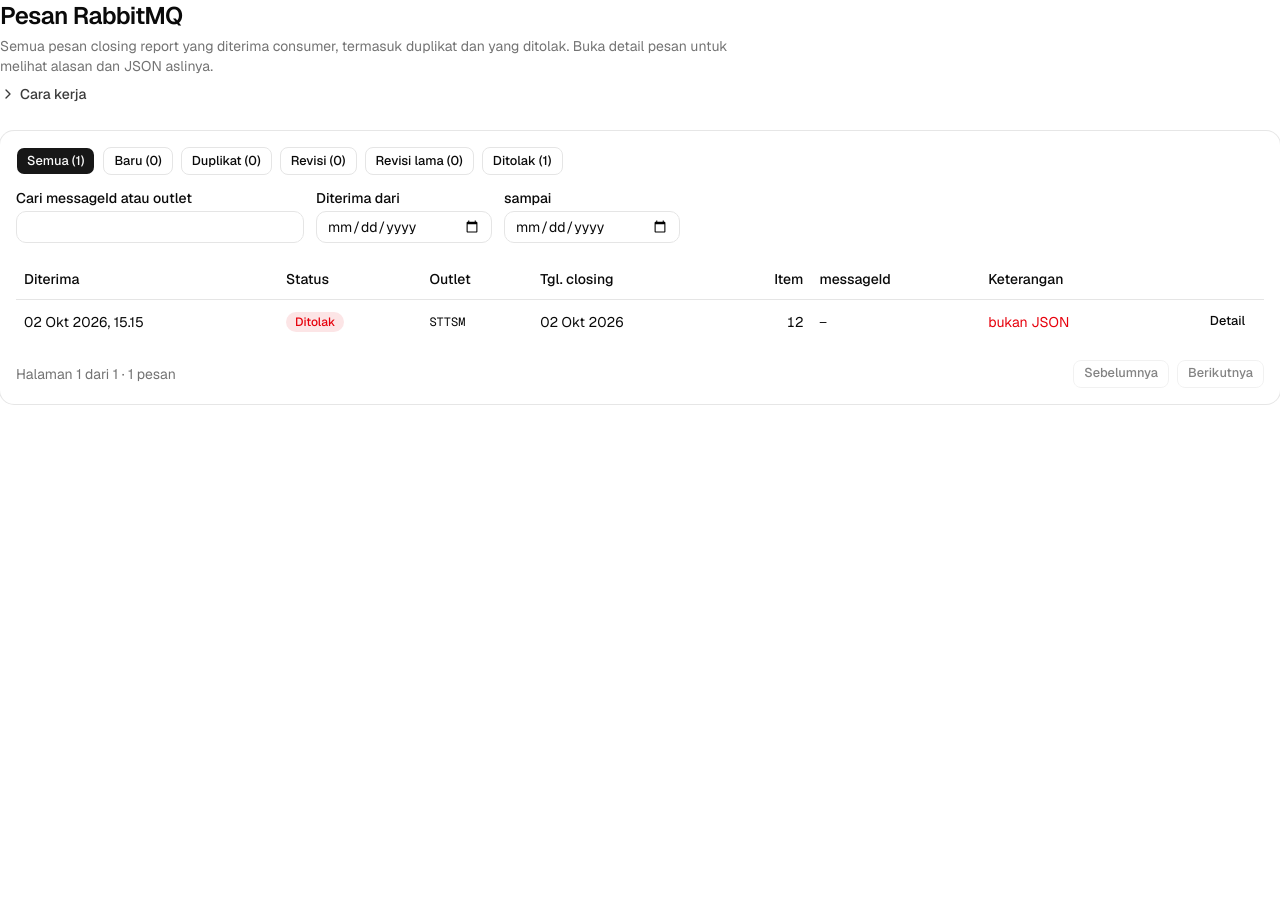
Scenario: ClosingMessagesView — detail › pesan bukan JSON memperlihatkan teks mentahnya
Click the button "Detail" at (1227, 322), box [1199,308,1256,336]
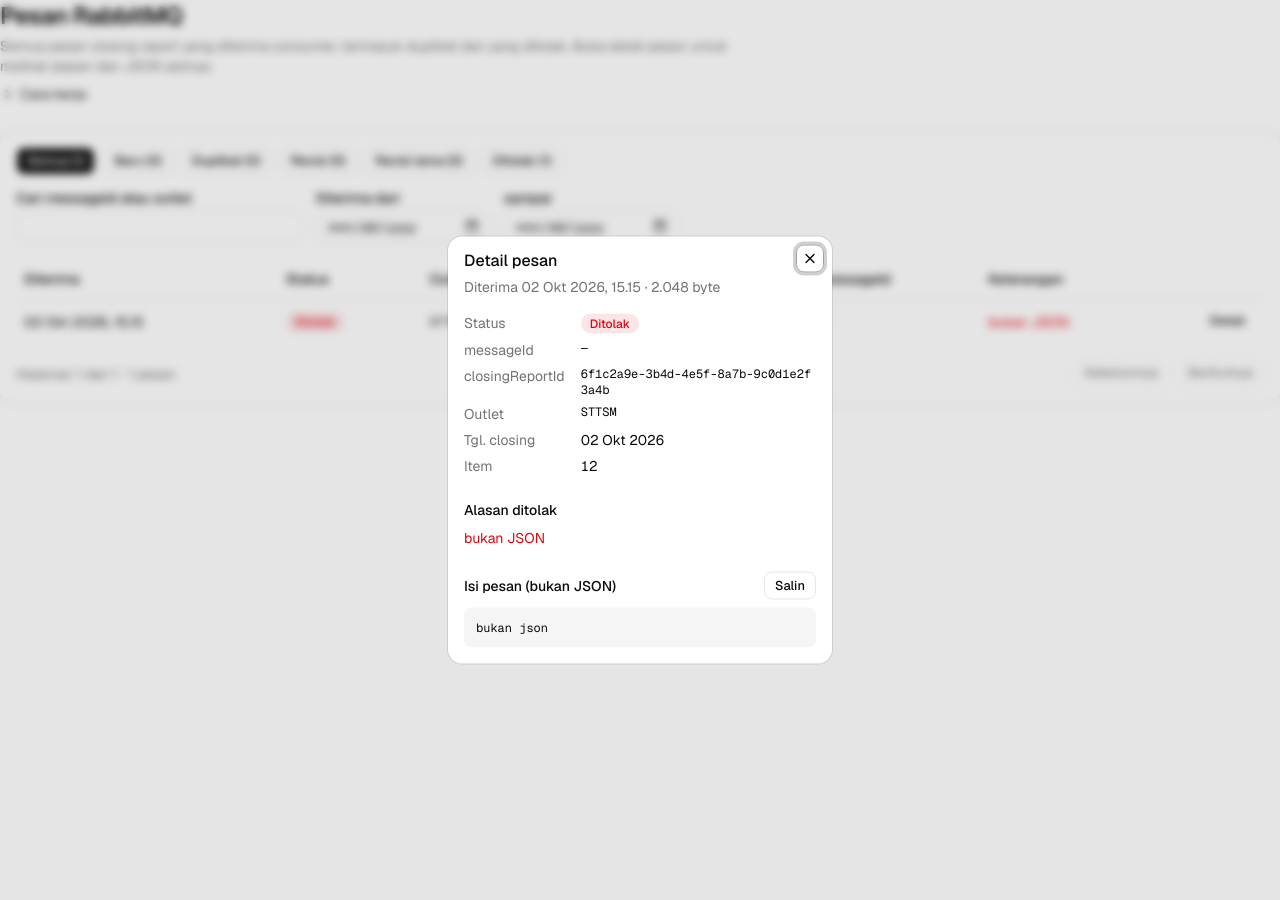
Expected: the text "bukan json" is shown, [464,608,816,648]
